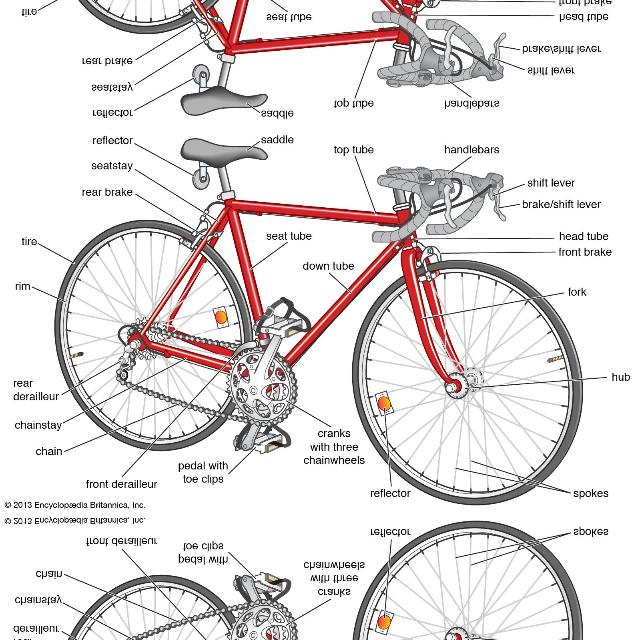obstacle: (50, 138, 594, 502), (49, 522, 594, 640), (49, 0, 594, 114)
